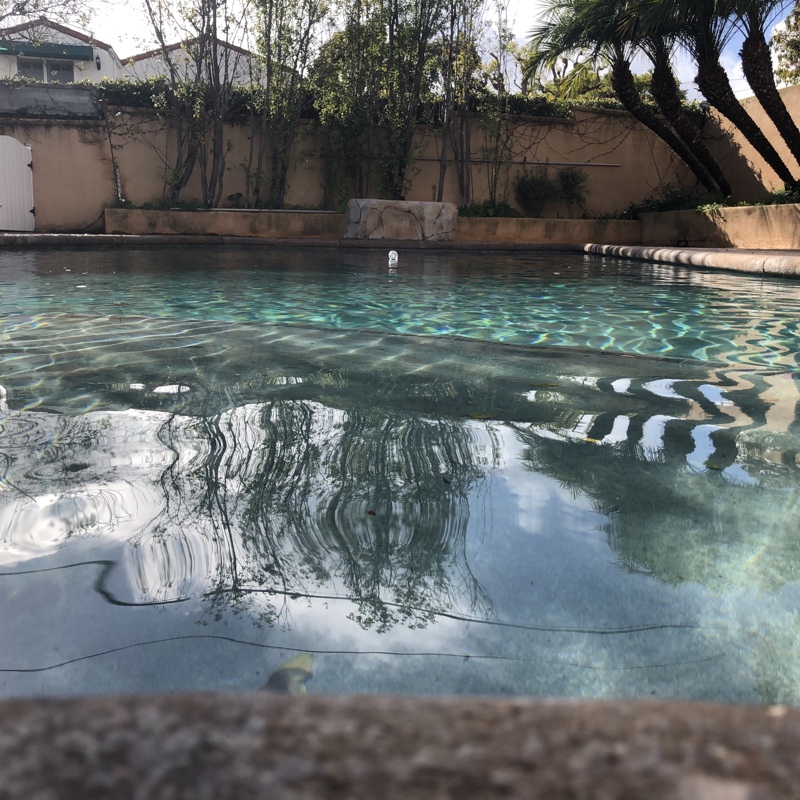Plastic Bottle: (386, 247, 397, 268)
